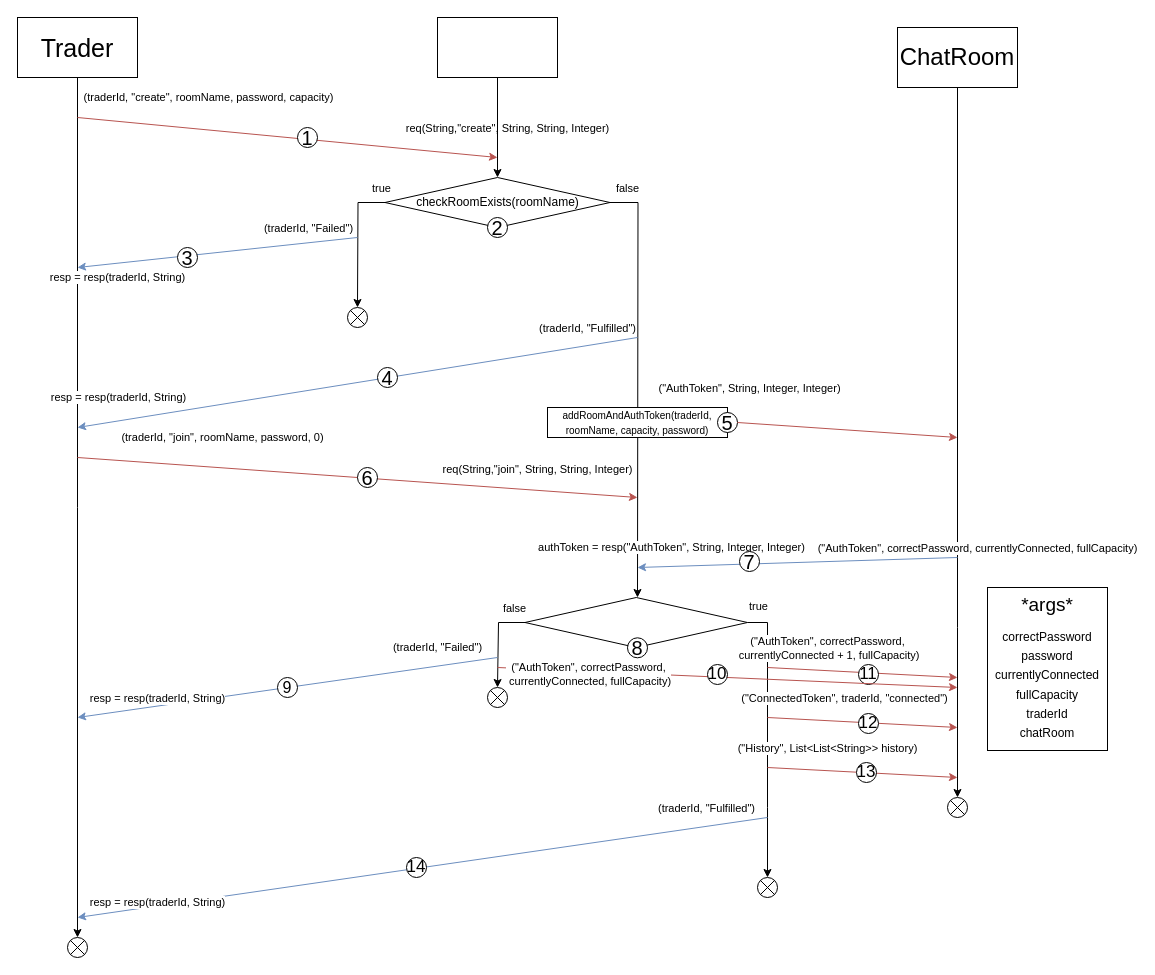
This 1155x975 diagram has some shape labels left out. The centre of each missing label's shape, as x and y in pixels:
"checkRequirements(*args*)" belongs at (x=636, y=622).
"Lobby" belongs at (x=497, y=47).
